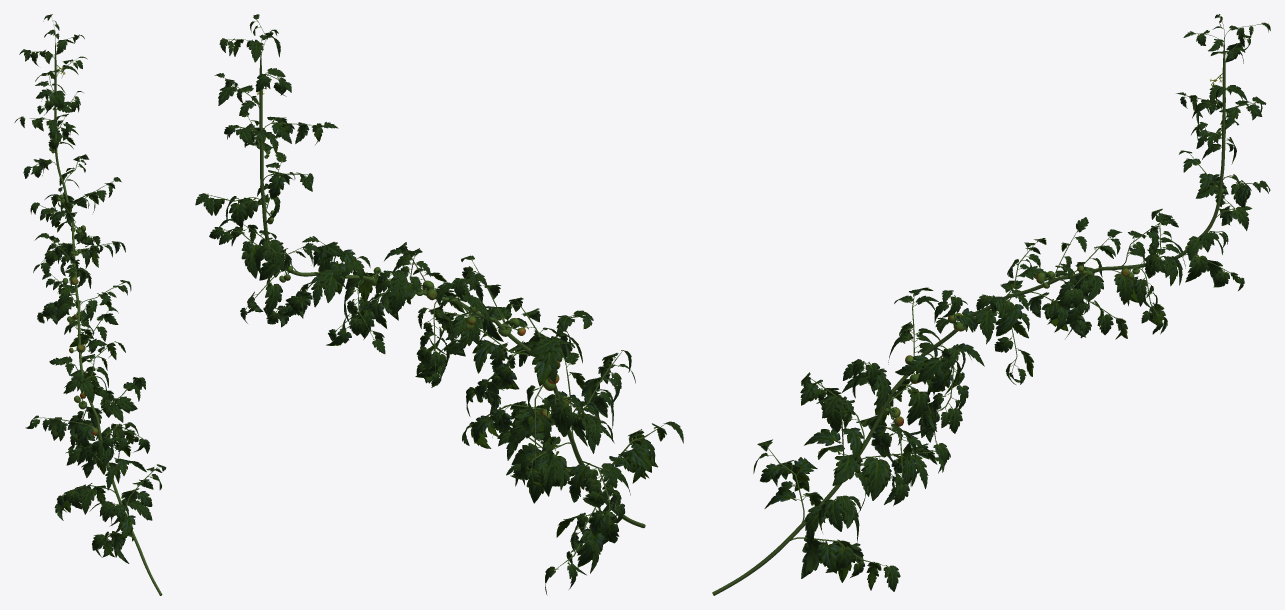
Rendered from tomato_024.glb.
3 renders of one model, left to right at view 1: azimuth 30°, elevation 25°; view 2: azimuth 150°, elevation 25°; view 3: azimuth 270°, elevation 25°, orthographic. The views are drawn at different scales.
Visible parts, largest first — view 1: tomato_024; view 2: tomato_024; view 3: tomato_024.
Boxes of the visible parts, x1,y1,x2,y2 form: tomato_024: (14,14,166,595); tomato_024: (195,14,683,595); tomato_024: (712,14,1270,595).
Bounding box in the file's own units: 1.1 × 2.61 × 2.11.
16 materials, 15 textured.
